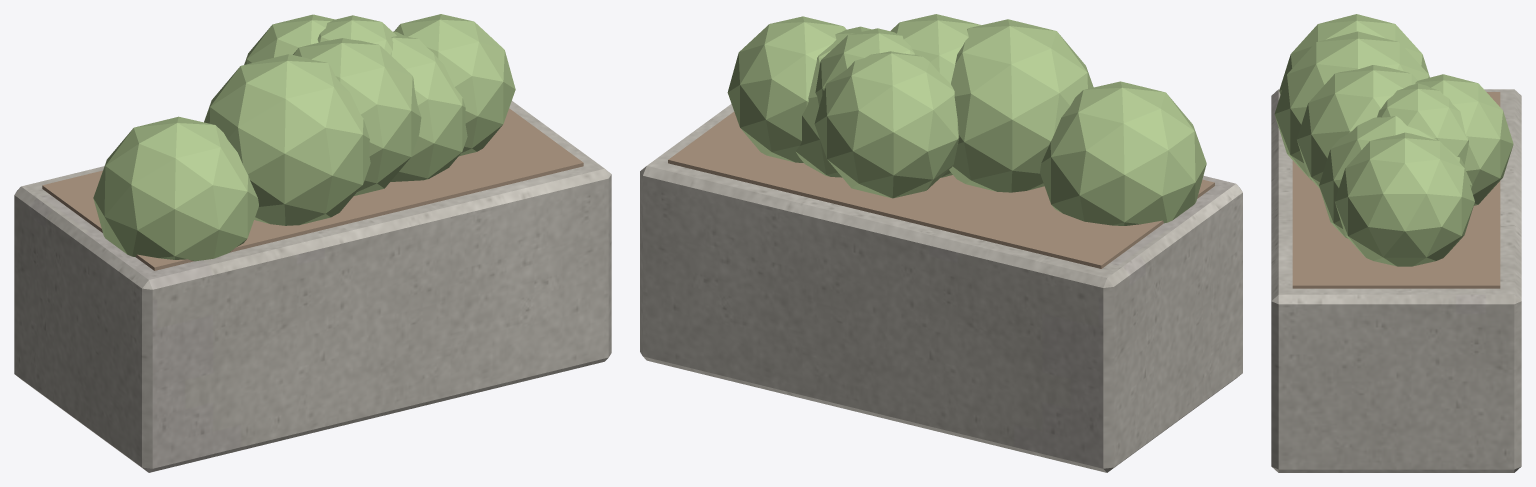
File: planter_box.glb
3 renders of one model, left to right at view 1: azimuth 30°, elevation 25°; view 2: azimuth 150°, elevation 25°; view 3: azimuth 270°, elevation 25°, orthographic. The views are drawn at different scales.
Parts seen in each view (by area): view 1: planter_box_concrete, planter_box_leaf2, planter_box_mulch; view 2: planter_box_concrete, planter_box_leaf2, planter_box_mulch; view 3: planter_box_concrete, planter_box_leaf2, planter_box_mulch.
Boxes of the visible parts, <box> form: planter_box_concrete: <box>14,101,611,472</box>; planter_box_leaf2: <box>93,14,515,261</box>; planter_box_mulch: <box>42,108,583,270</box>; planter_box_concrete: <box>640,104,1242,472</box>; planter_box_leaf2: <box>727,14,1206,225</box>; planter_box_mulch: <box>668,112,1214,268</box>; planter_box_concrete: <box>1271,89,1521,472</box>; planter_box_leaf2: <box>1274,14,1513,266</box>; planter_box_mulch: <box>1292,92,1500,288</box>.
Bounding box in the file's own units: 1.4 × 0.9585 × 0.7.
3 materials, 1 textured.
